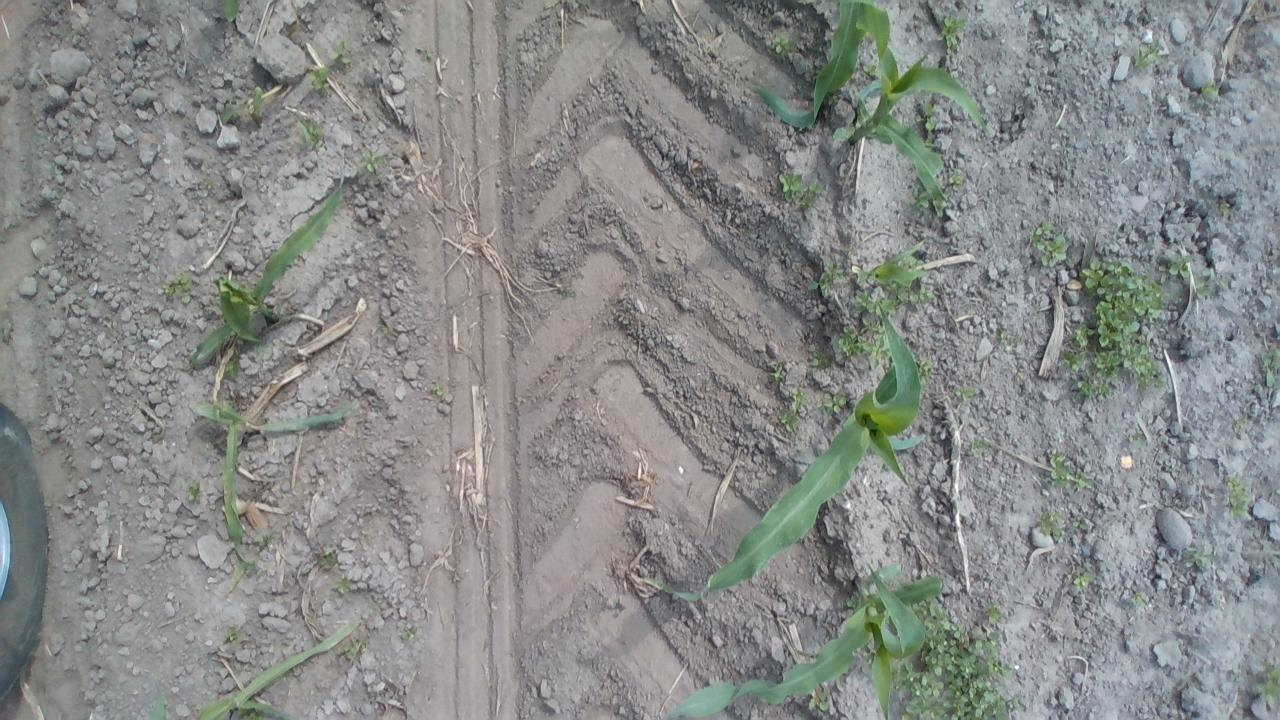Maize: (649, 305, 921, 604), (664, 563, 947, 720), (832, 0, 1002, 220), (182, 172, 353, 372), (203, 393, 344, 582), (140, 617, 364, 720), (747, 0, 871, 137), (846, 242, 930, 286)
Weeds: (1062, 250, 1170, 408), (889, 595, 1019, 720), (835, 324, 899, 370), (775, 168, 829, 216), (1043, 446, 1094, 491), (1039, 505, 1096, 543), (848, 289, 902, 328), (1030, 221, 1067, 270), (805, 259, 845, 300), (220, 89, 264, 126), (1222, 472, 1252, 525), (774, 388, 807, 434), (160, 268, 198, 304), (1249, 664, 1280, 708), (1131, 38, 1167, 75), (292, 119, 327, 155), (893, 286, 943, 310), (910, 101, 946, 133), (1184, 544, 1217, 578), (336, 634, 371, 666), (940, 16, 966, 57), (1070, 567, 1101, 597), (1159, 252, 1193, 278), (356, 150, 390, 176), (1259, 344, 1280, 386), (817, 391, 853, 415), (244, 528, 276, 554), (178, 478, 207, 506), (1196, 81, 1228, 106), (914, 353, 934, 393), (806, 346, 833, 375), (961, 437, 990, 462), (772, 31, 798, 58), (316, 548, 342, 574), (1215, 198, 1238, 226), (1189, 281, 1219, 302), (310, 63, 330, 94), (330, 38, 352, 66), (198, 173, 220, 200), (949, 382, 978, 402), (806, 685, 827, 712), (331, 576, 356, 598), (1130, 588, 1152, 612), (1122, 428, 1146, 450), (944, 160, 962, 189), (1230, 414, 1252, 436), (375, 320, 396, 340), (399, 623, 421, 642), (995, 329, 1018, 347), (768, 362, 788, 382), (226, 626, 242, 647), (429, 382, 446, 399)
